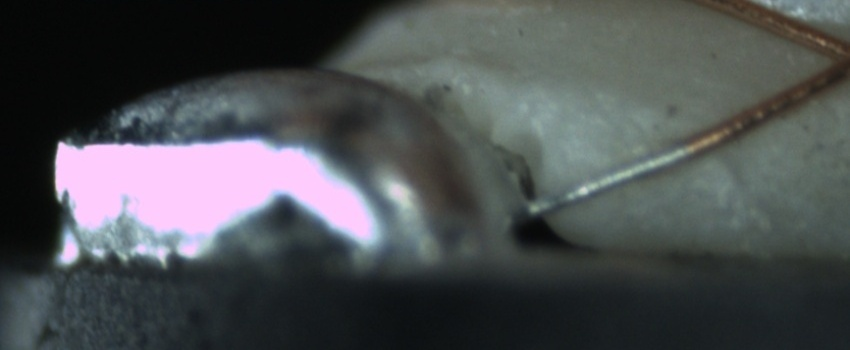CL: (802, 23, 850, 93)
TS: (518, 138, 683, 219)
